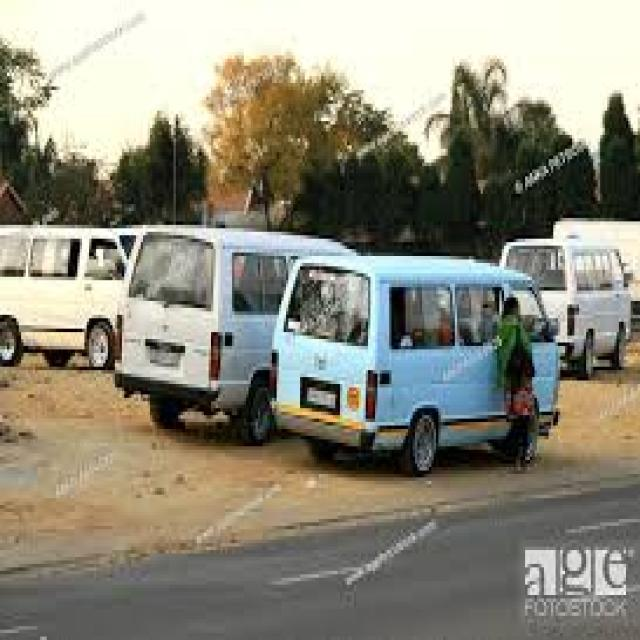MiniBus taxi: (265, 260, 586, 478), (115, 218, 265, 443)
